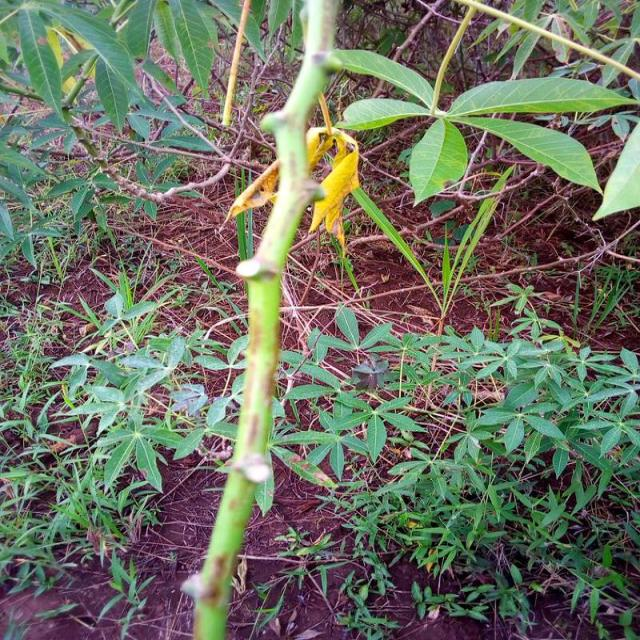cassava leaf: (408, 115, 467, 207)
